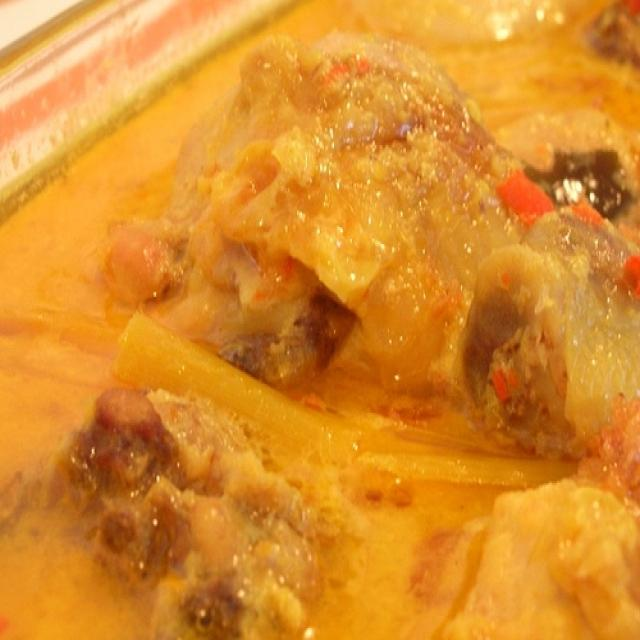熟制海鲜: (15, 17, 616, 613)
